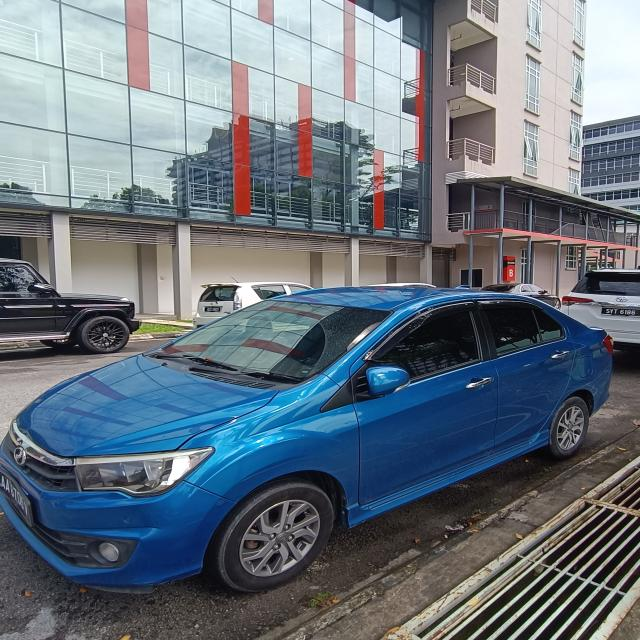PeroduaBezza: (1, 282, 614, 594)
